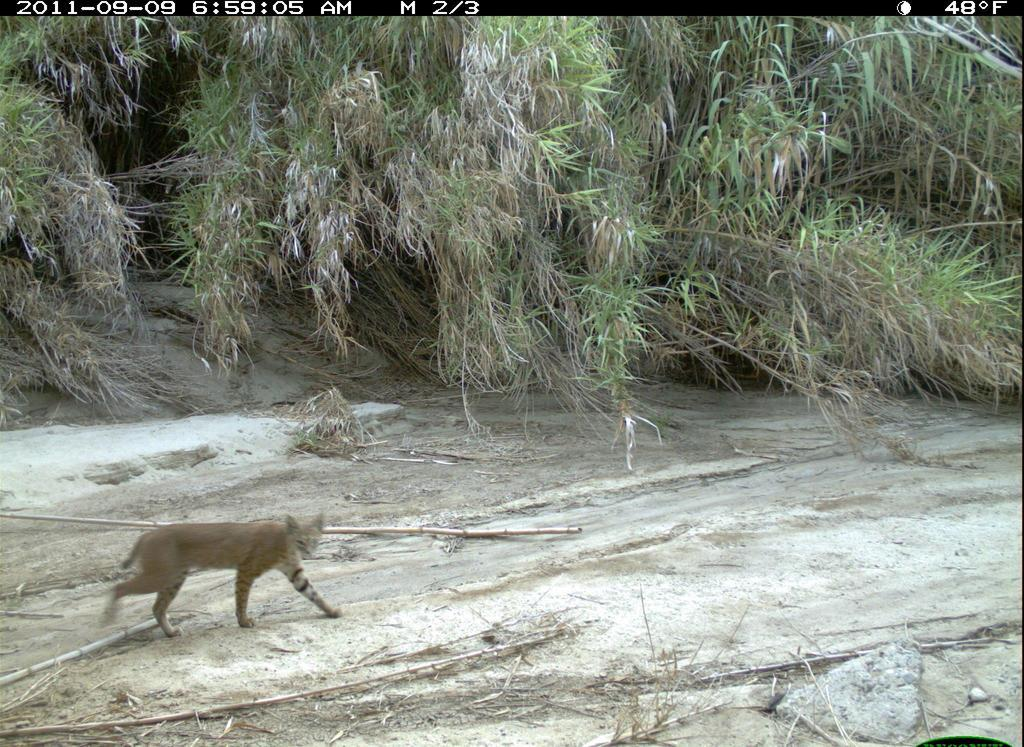bobcat: (102, 505, 344, 649)
